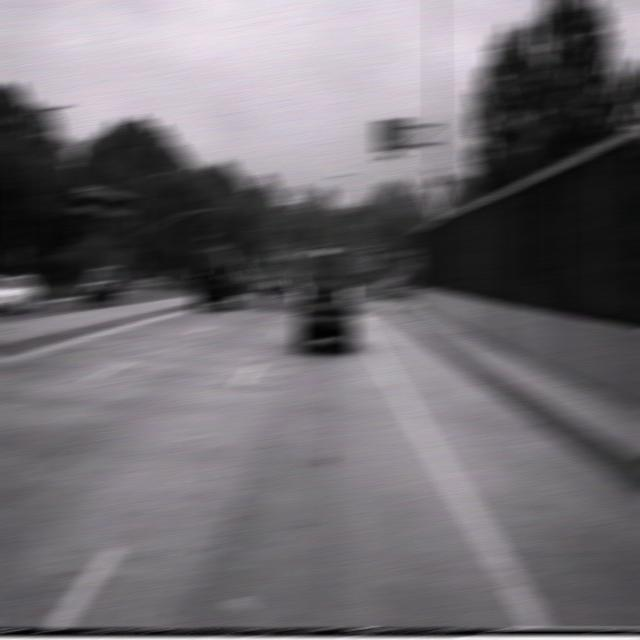pedestrianCrossing: (418, 156, 457, 219)
